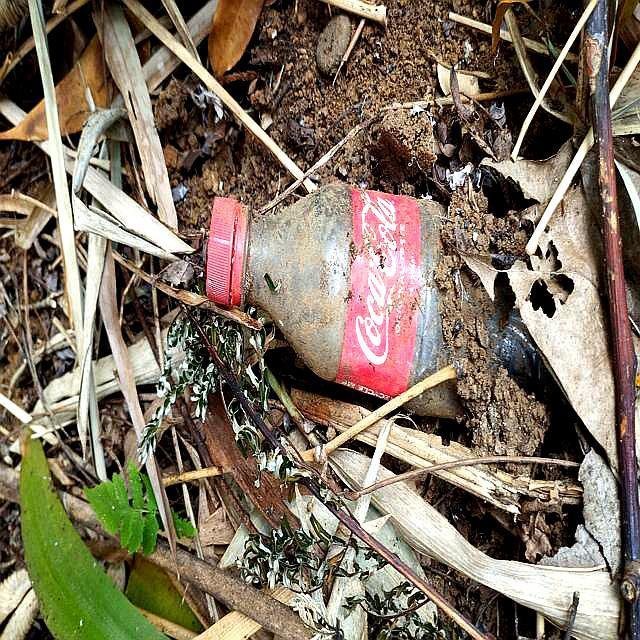Non-biodegradable: (207, 188, 522, 420)
